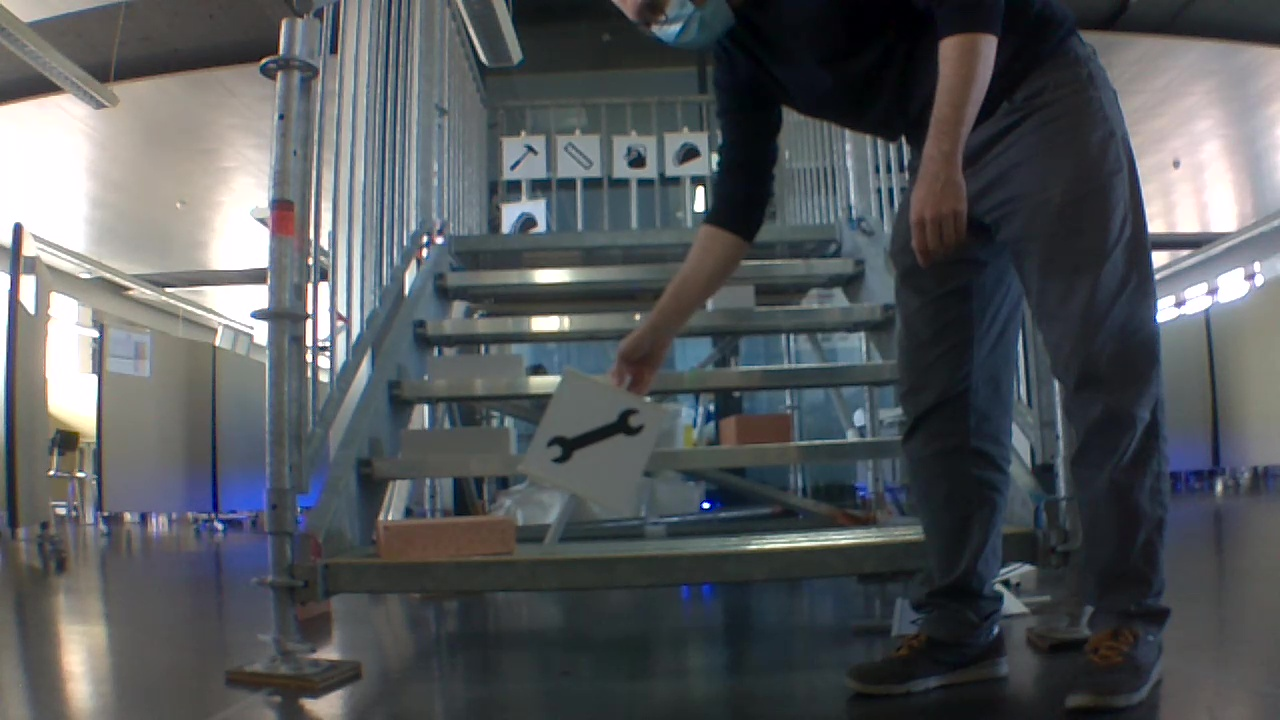brick: (375, 518, 512, 561), (402, 424, 513, 460), (428, 355, 525, 381), (718, 415, 795, 445), (706, 284, 753, 309)
bucket: (617, 137, 647, 172)
hammer: (503, 142, 540, 172)
ruler: (560, 138, 598, 173)
taco: (669, 139, 701, 167), (507, 209, 540, 232)
wrench: (542, 403, 648, 472)
